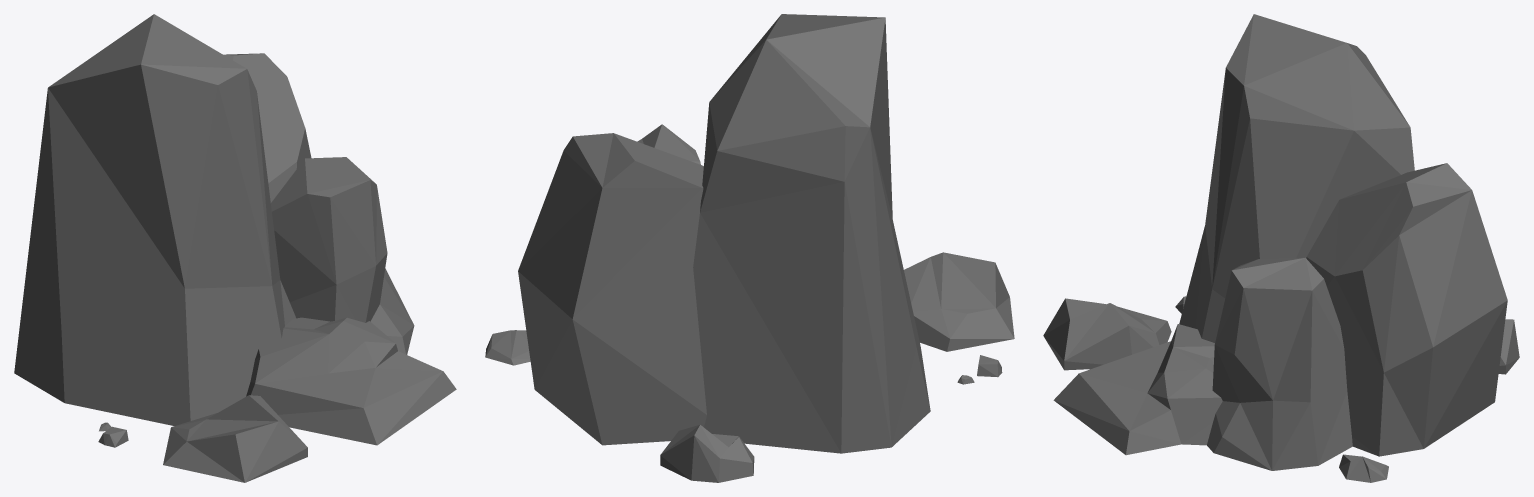
File: Stone_A_01.FBX
3 renders of one model, left to right at view 1: azimuth 30°, elevation 25°; view 2: azimuth 150°, elevation 25°; view 3: azimuth 270°, elevation 25°, orthographic. The views are drawn at different scales.
Parts seen in each view (by area): view 1: Stone_A_01; view 2: Stone_A_01; view 3: Stone_A_01.
Part boxes in pixels (x1,y1,x2,y2): Stone_A_01: (14,14,456,482); Stone_A_01: (485,14,1014,482); Stone_A_01: (1043,14,1519,482).
Bounding box in the file's own units: 6.61 × 5.58 × 7.43.
